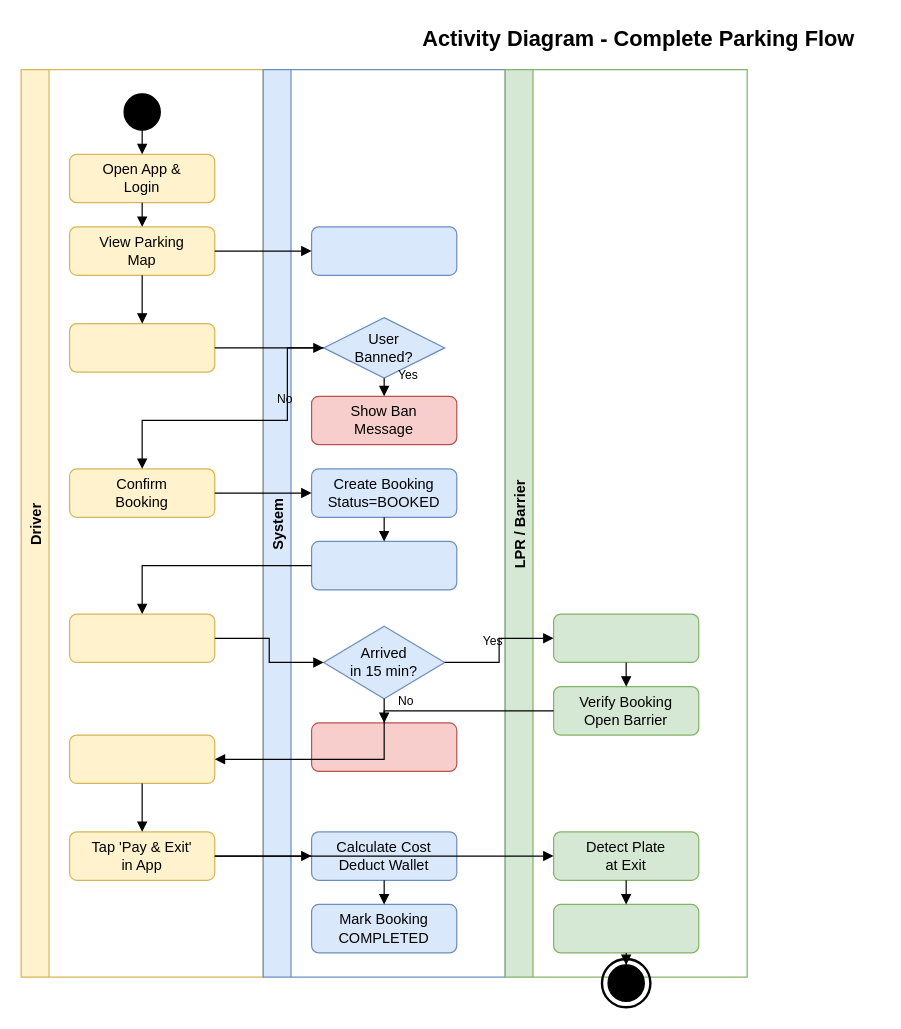
Some shapes in this 901 by 1029 pixel diagram are drawn without their labels. The shapes that lost their labels are listed below. From the top down, each one's centre as x and y in pixels, then its label:
At point (383, 250): "Load Real-time Spot Status".
At point (141, 347): "Select FREE Spot".
At point (383, 565): "Start 15-min Timer".
At point (141, 637): "Drive to Parking".
At point (625, 637): "Detect Plate at Entry".
At point (141, 758): "Park at Reserved Spot".
At point (383, 746): "Mark NO_SHOW Increment Counter".
At point (625, 928): "Verify Payment Open Exit Barrier".
